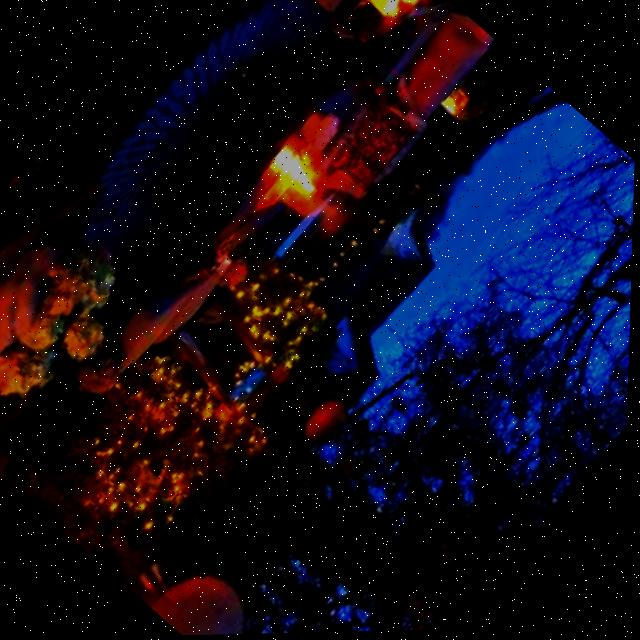Fire: (255, 129, 349, 223)
